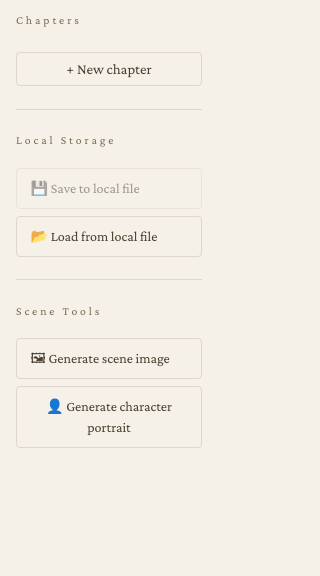
Test: Sidebar › unit - list local stories › shows story IDs after listing local stories
Click the button "📂 Load from local file".
click(109, 236)  # box [16,216,202,257]
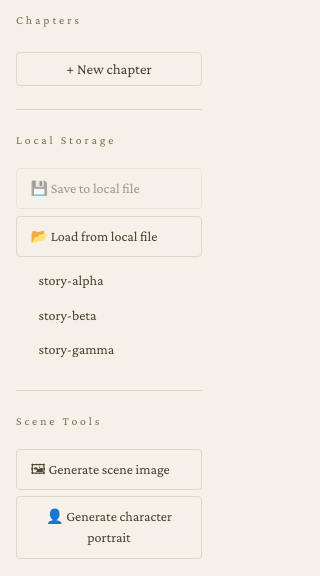
Result: the text "story-alpha" is shown at [38,272,104,288]
Result: the text "story-beta" is shown at [38,307,96,323]
Result: the text "story-gamma" is shown at [38,341,114,357]
